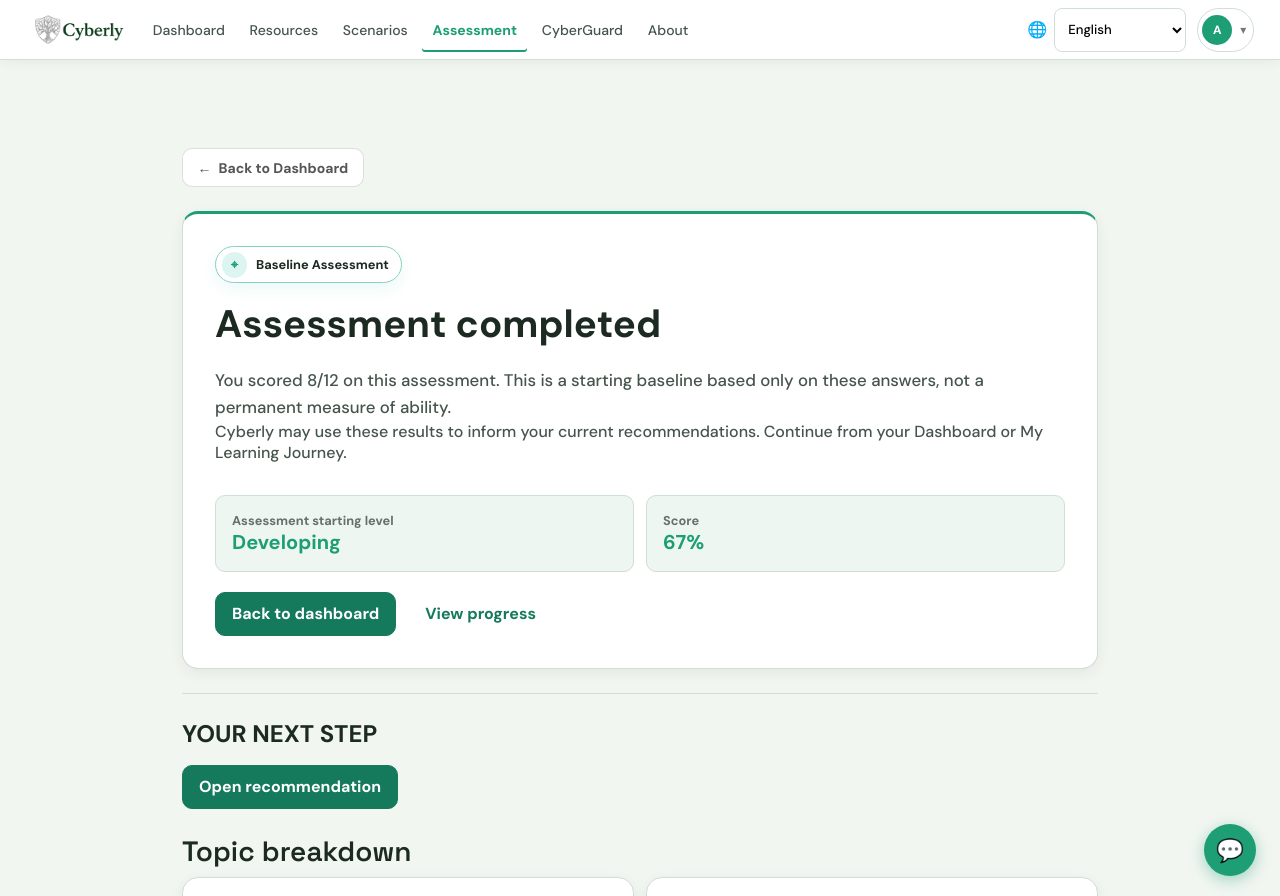
Test: Assessment final visual migration › UG01-S4 explicit viewed failure waits and never completes
Expected: the text "Assessment starting level" is shown, [232,512,394,529]
Step 1. Click the button "Open recommendation" → (290, 787), box [182,765,398,809]
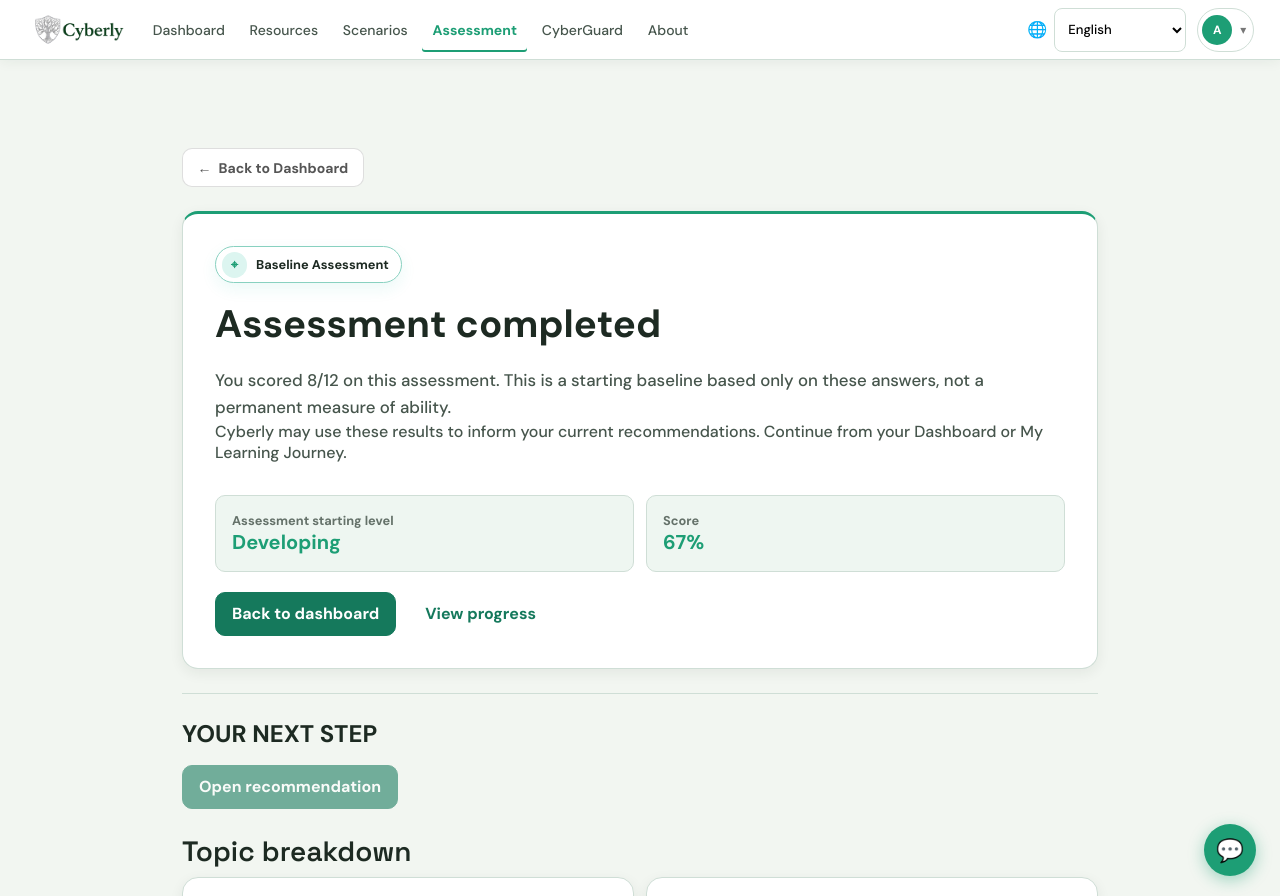
Step 2. Click the button "Open recommendation" → (290, 787), box [182,765,398,809]
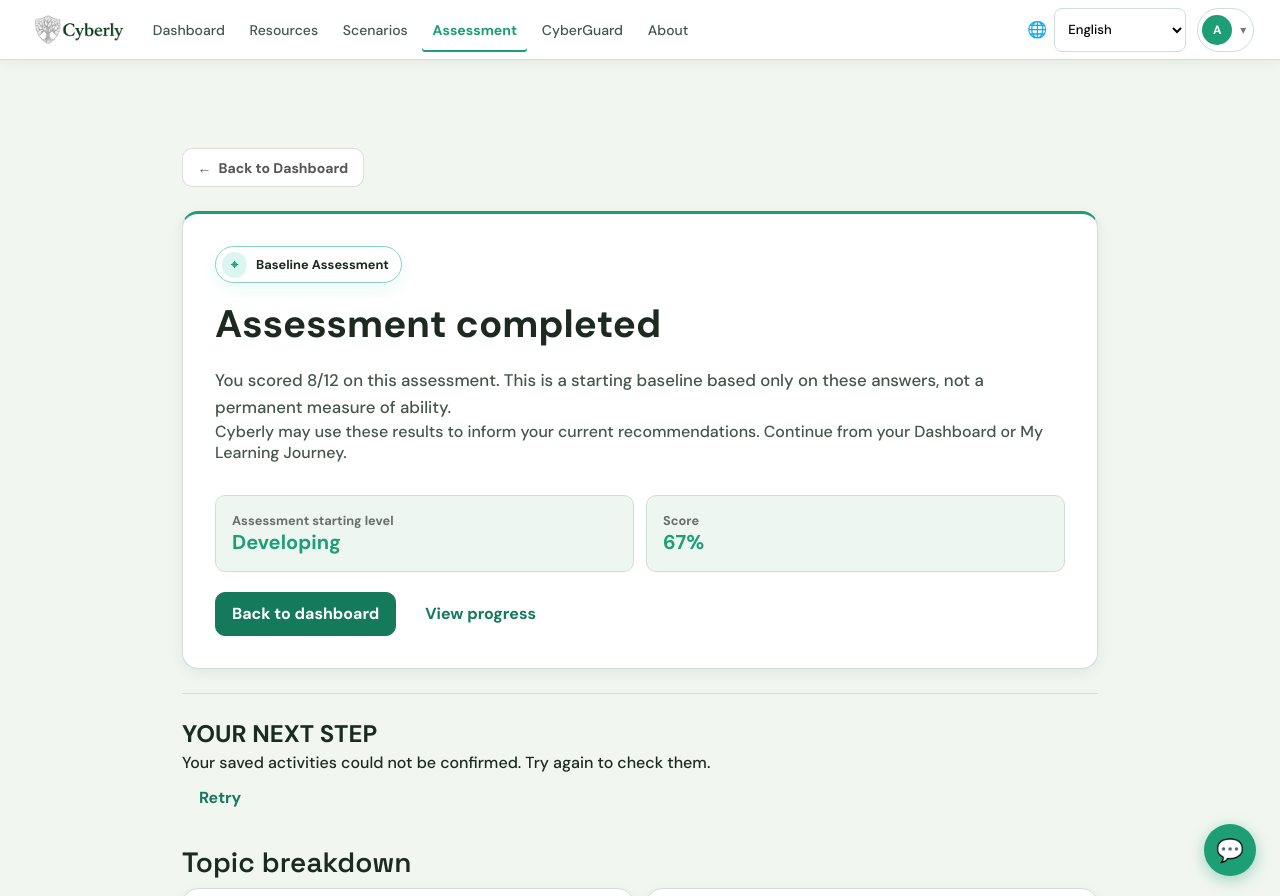
Expected: the message "Your saved activities could not be confirmed. Try again to check them." is shown, [182,752,710,773]
